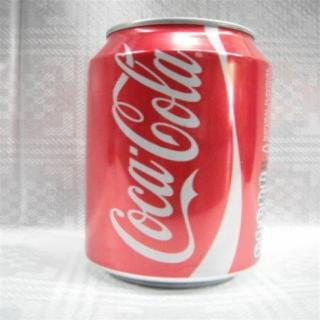Anorganik: (75, 12, 282, 291)
